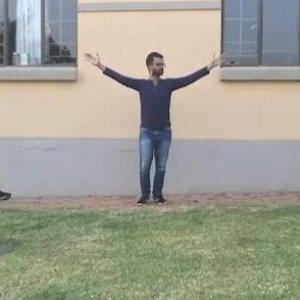takeoff: (90, 47, 230, 198)
